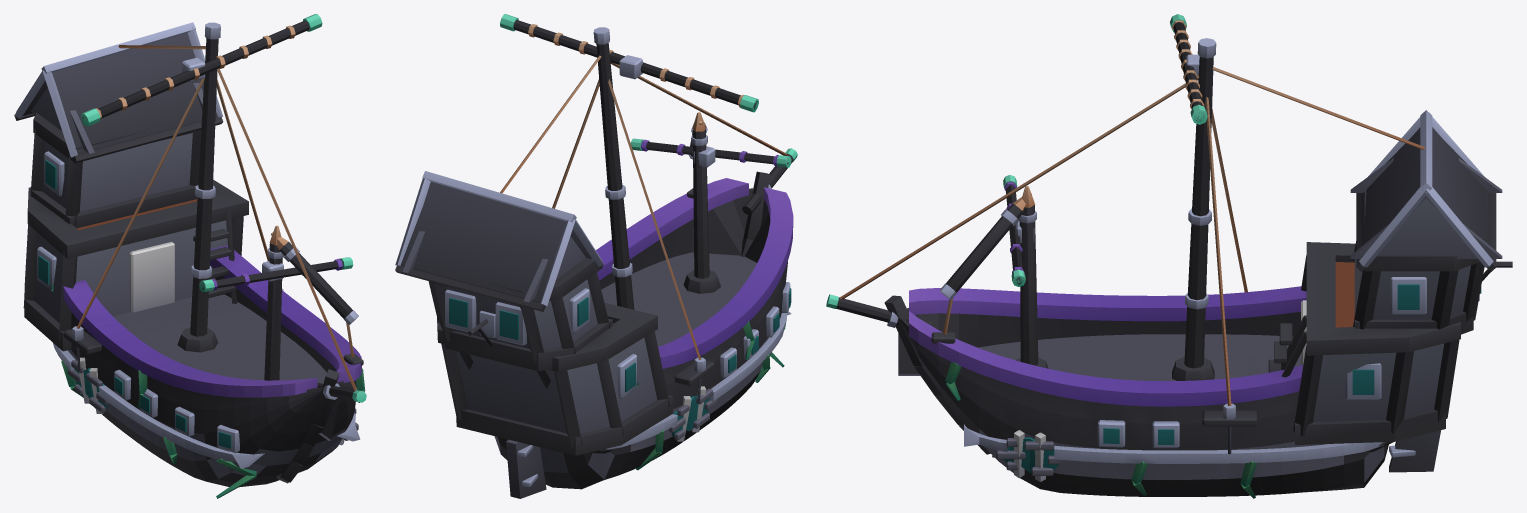
The model's file is hidden-up.glb.
3 renders of one model, left to right at view 1: azimuth 30°, elevation 25°; view 2: azimuth 150°, elevation 25°; view 3: azimuth 270°, elevation 25°, orthographic. The views are drawn at different scales.
Visible parts, largest first — view 1: hidden, glow; view 2: hidden, glow; view 3: hidden, glow.
Part boxes in pixels (left/top/right/bottom): hidden: left=14, top=14, right=366, bottom=498; glow: left=38, top=160, right=231, bottom=448; hidden: left=395, top=14, right=797, bottom=498; glow: left=449, top=288, right=791, bottom=436; hidden: left=826, top=14, right=1512, bottom=498; glow: left=1004, top=284, right=1481, bottom=472.
Bounding box in the file's own units: 3.48 × 5.54 × 7.56.
